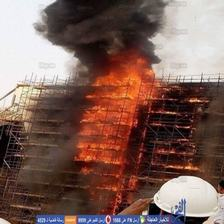fire: (49, 3, 159, 182)
